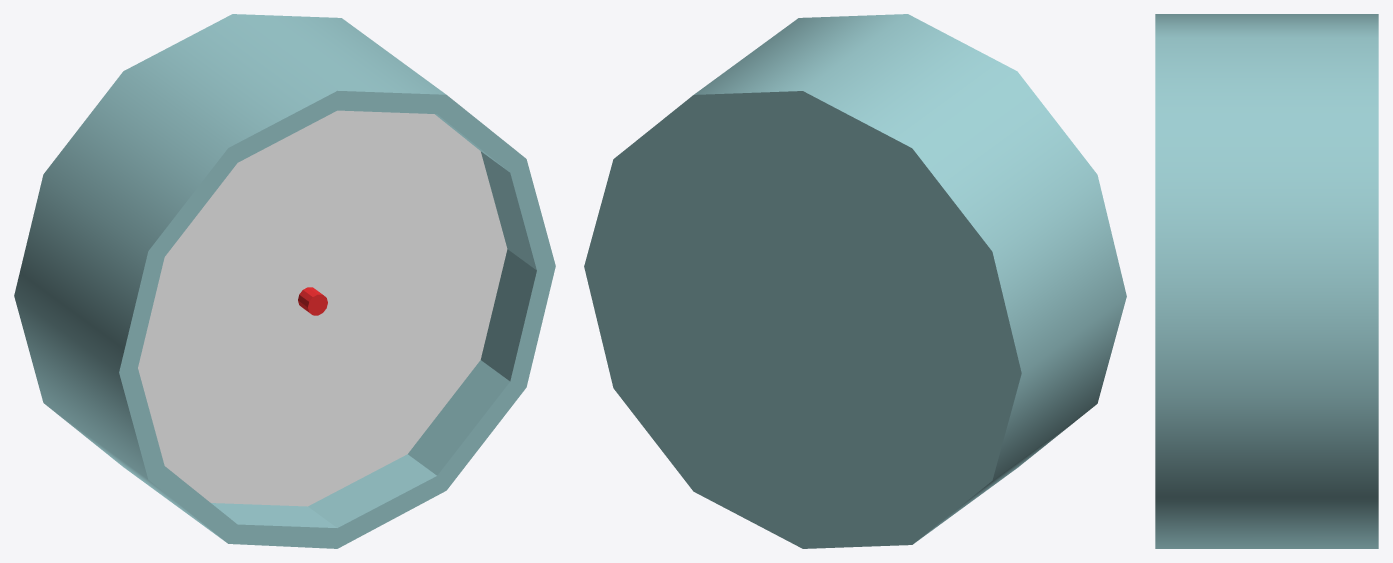
Rendered from Itr_Obj_Alarmclcok_Body_06.FBX.
3 views of the same model, side by side, from view 1: azimuth 30°, elevation 25°; view 2: azimuth 150°, elevation 25°; view 3: azimuth 270°, elevation 25° (orthographic). The views are drawn at different scales.
Visible parts, largest first — view 1: Itr_Obj_Alarmclcok_Body_06; view 2: Itr_Obj_Alarmclcok_Body_06; view 3: Itr_Obj_Alarmclcok_Body_06.
Boxes of the visible parts, <box> form: Itr_Obj_Alarmclcok_Body_06: <box>14,14,555,548</box>; Itr_Obj_Alarmclcok_Body_06: <box>584,14,1126,548</box>; Itr_Obj_Alarmclcok_Body_06: <box>1155,14,1378,548</box>.
Bounding box in the file's own units: 3.87 × 3.88 × 1.61.
